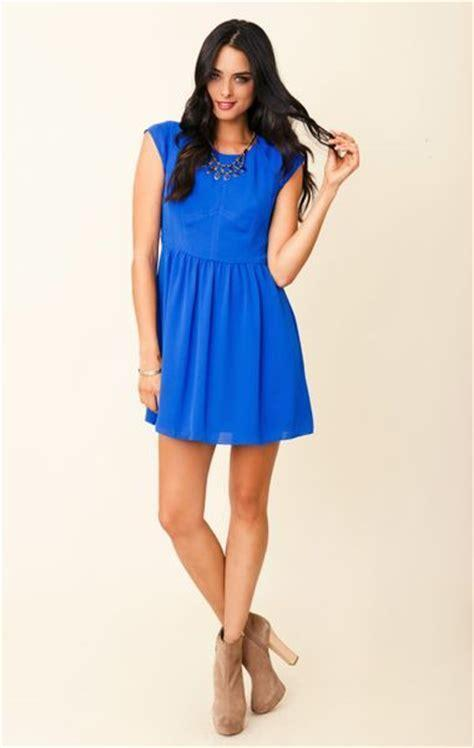dress: (142, 119, 311, 446)
